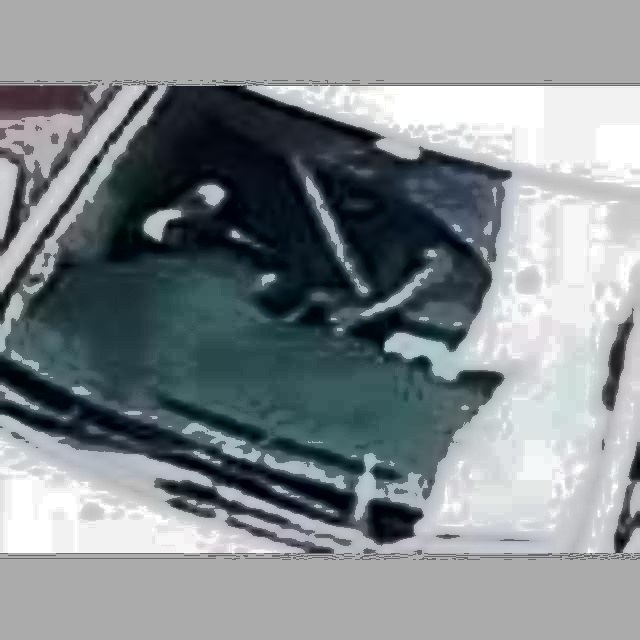pakai: (202, 130, 433, 337)
